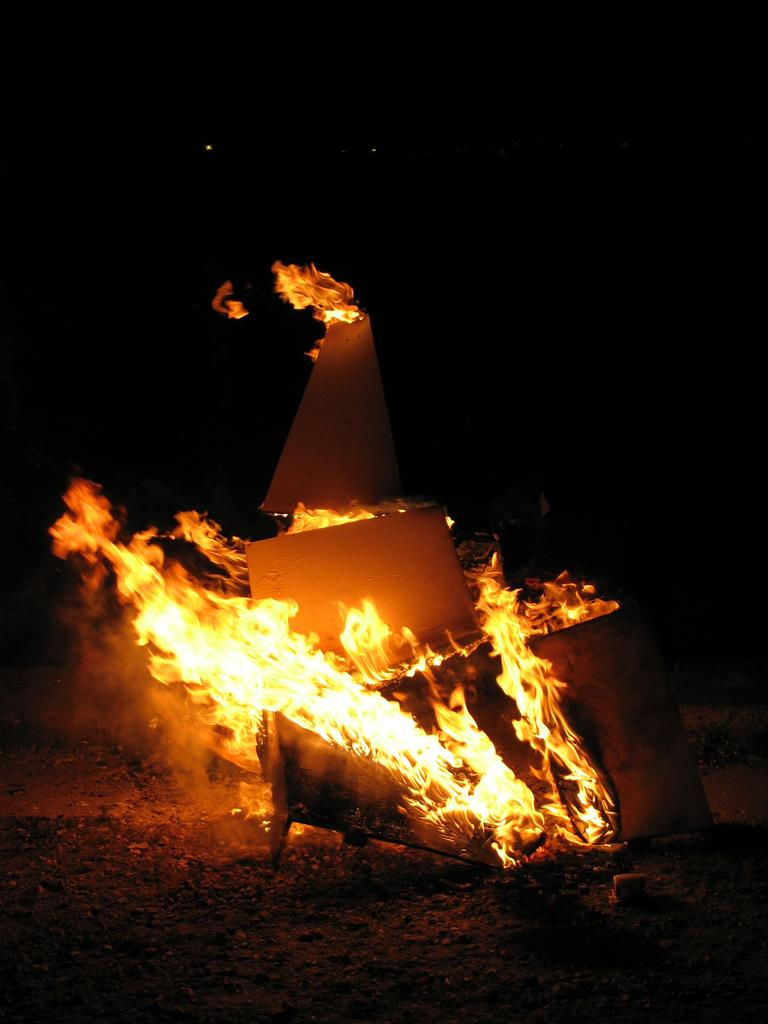fire: (168, 595, 338, 705), (395, 708, 545, 818), (478, 560, 582, 690)
